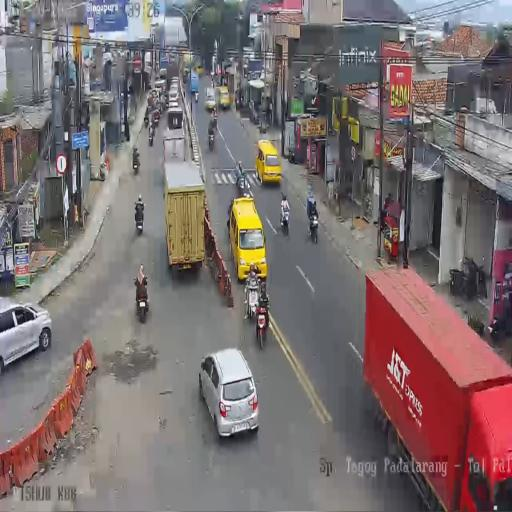car: (199, 347, 261, 440), (0, 299, 52, 373), (229, 197, 266, 284), (256, 139, 282, 185), (153, 78, 167, 105), (218, 86, 230, 110), (205, 87, 216, 112), (168, 96, 180, 112), (196, 61, 203, 75), (160, 66, 167, 80)
motorcycle: (254, 295, 270, 349), (134, 276, 149, 322), (308, 207, 319, 243), (280, 204, 290, 236), (134, 203, 144, 235), (148, 116, 156, 146), (208, 123, 216, 149), (143, 107, 150, 127)
truck: (163, 159, 207, 278), (183, 54, 196, 78)
